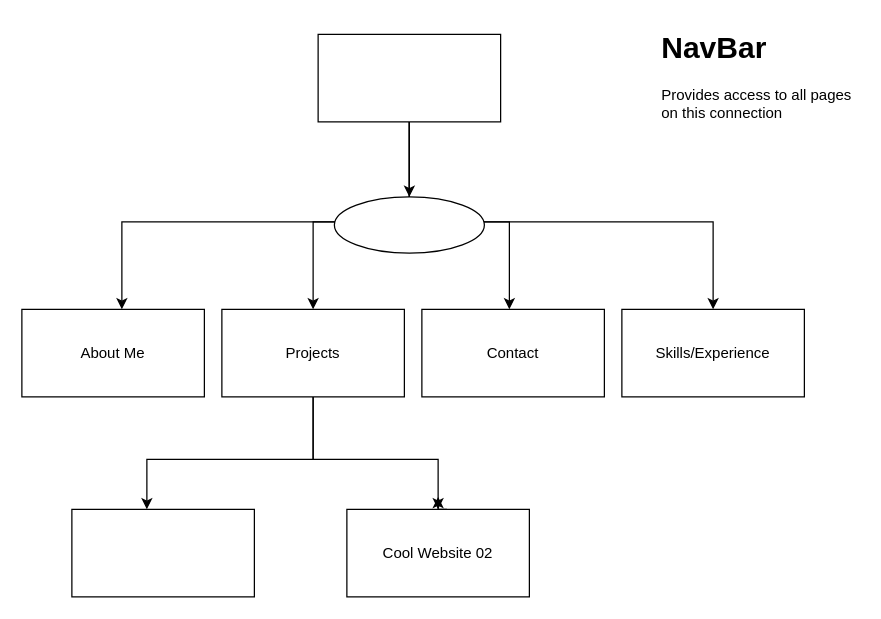
Image size: 881x619. Some labels were removed from this diagram. The shapes that lost their labels are listed below. From the top down, each one's box as (x1, y1, x2, y2) in pixels, then its label:
(317, 33, 501, 122): Home
(333, 196, 484, 253): NavBar
(71, 508, 254, 597): Cool Website 01
